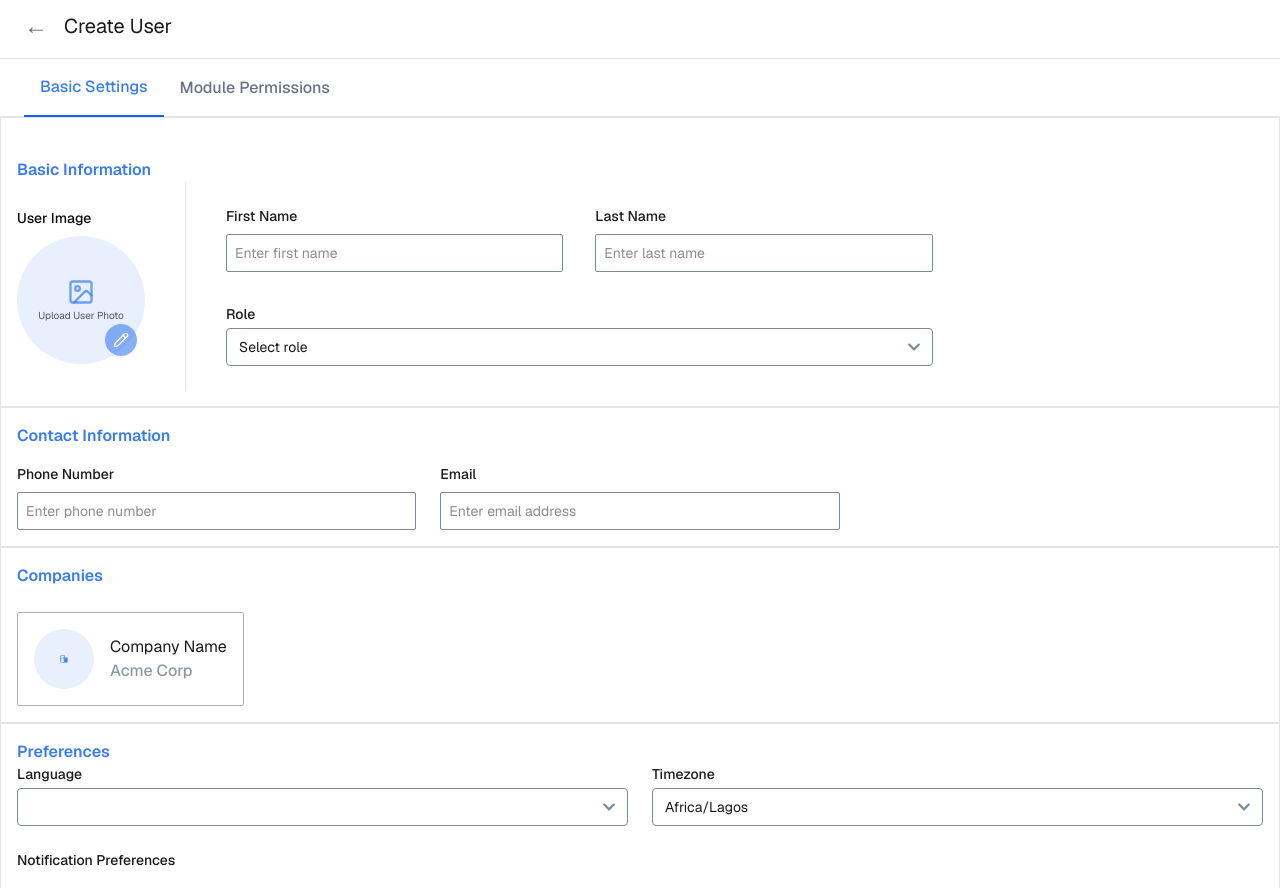
Test: NewUser Page Error Handling & StatusModal › displays actual error message in StatusModal when backend returns { error: [{ email: 'This email already exists' }] }
The width and height of the screenshot is (1280, 888).
Type "John" into the field with placeholder "Enter first name". click: (395, 253)
box: [226, 234, 563, 272]
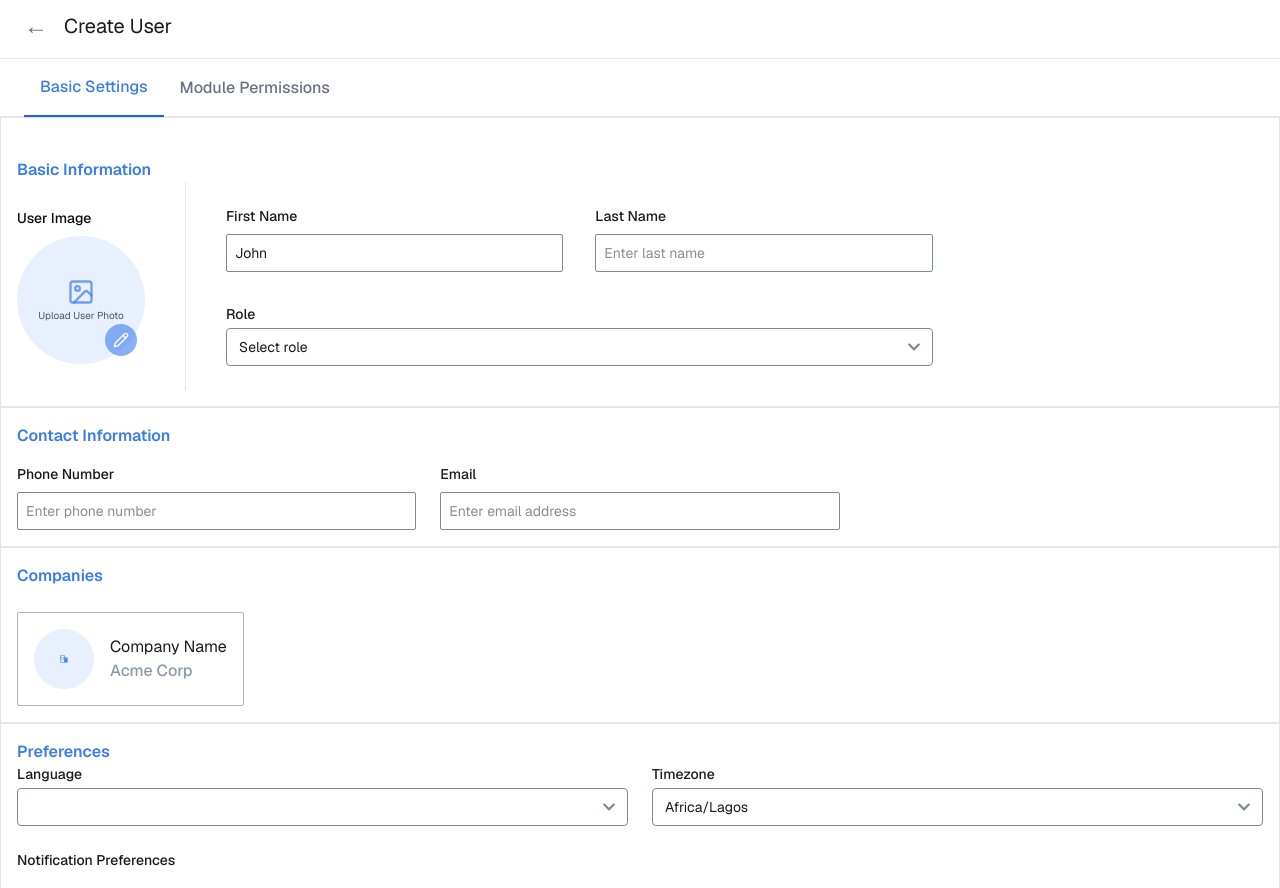
Type "Doe" into the field with placeholder "Enter last name". click: (764, 253)
box: [595, 234, 933, 272]
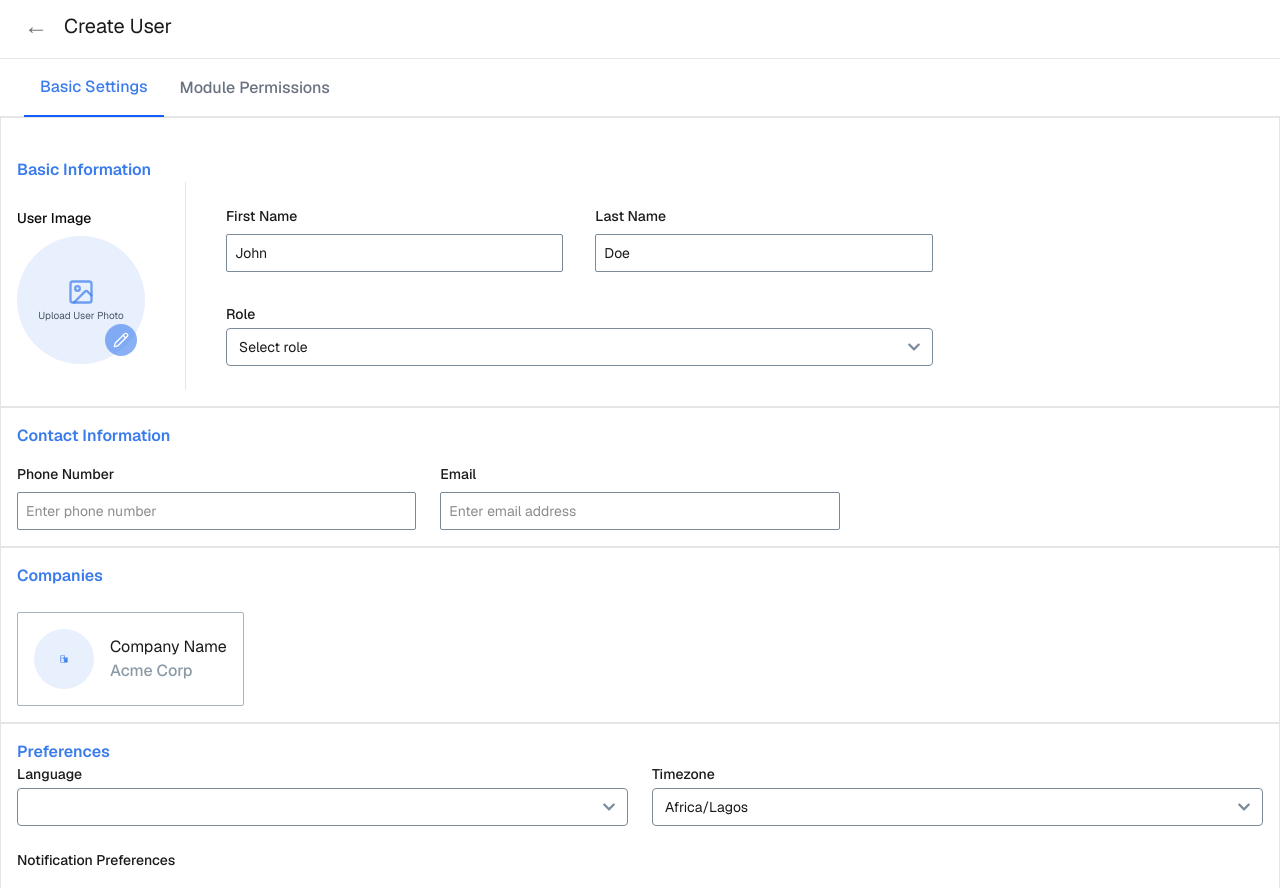
Type "existing@example.com" into the field with placeholder "Enter email address". click: (640, 511)
box: [440, 492, 840, 530]
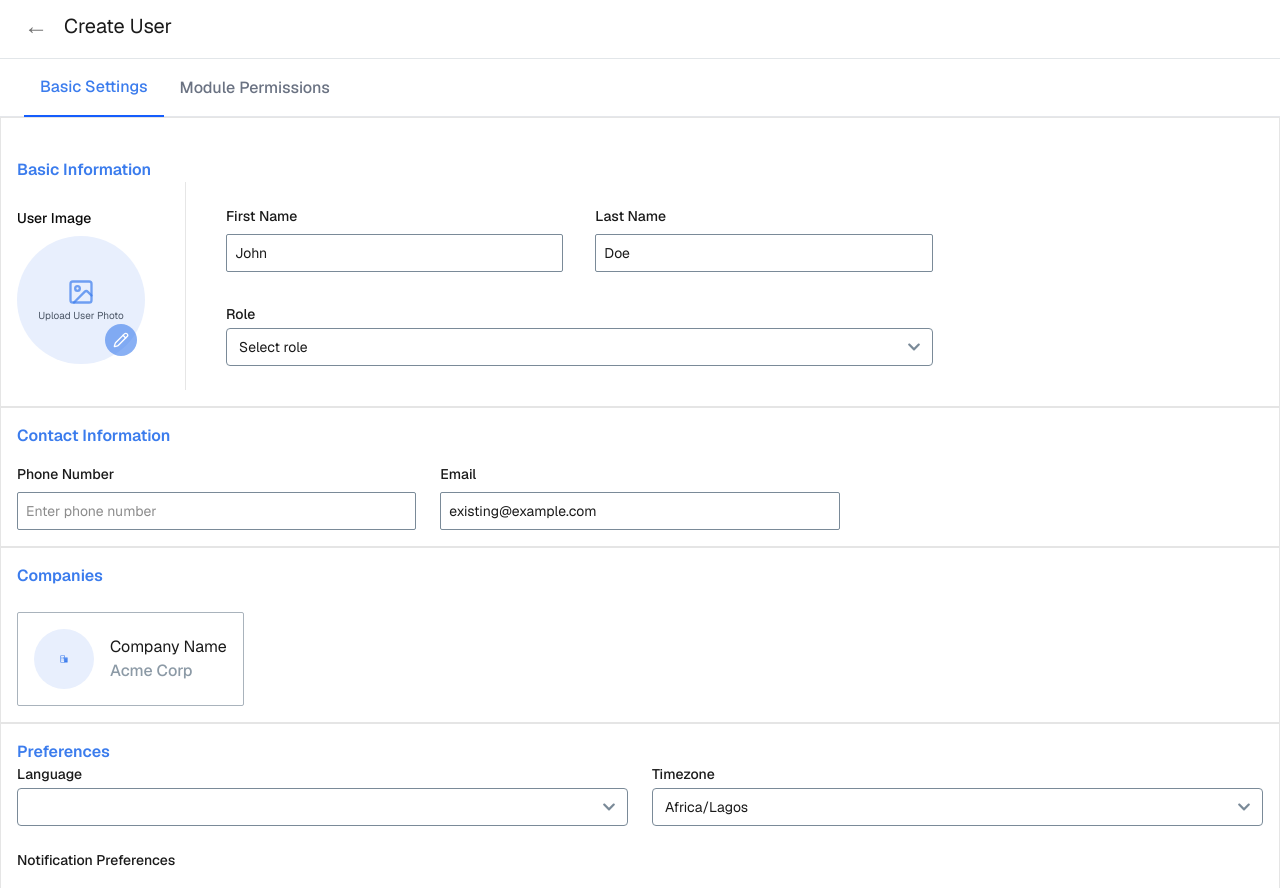
Type "08012345678" into the field with placeholder "Enter phone number". click: (217, 511)
box: [17, 492, 416, 530]
(page scrolled)
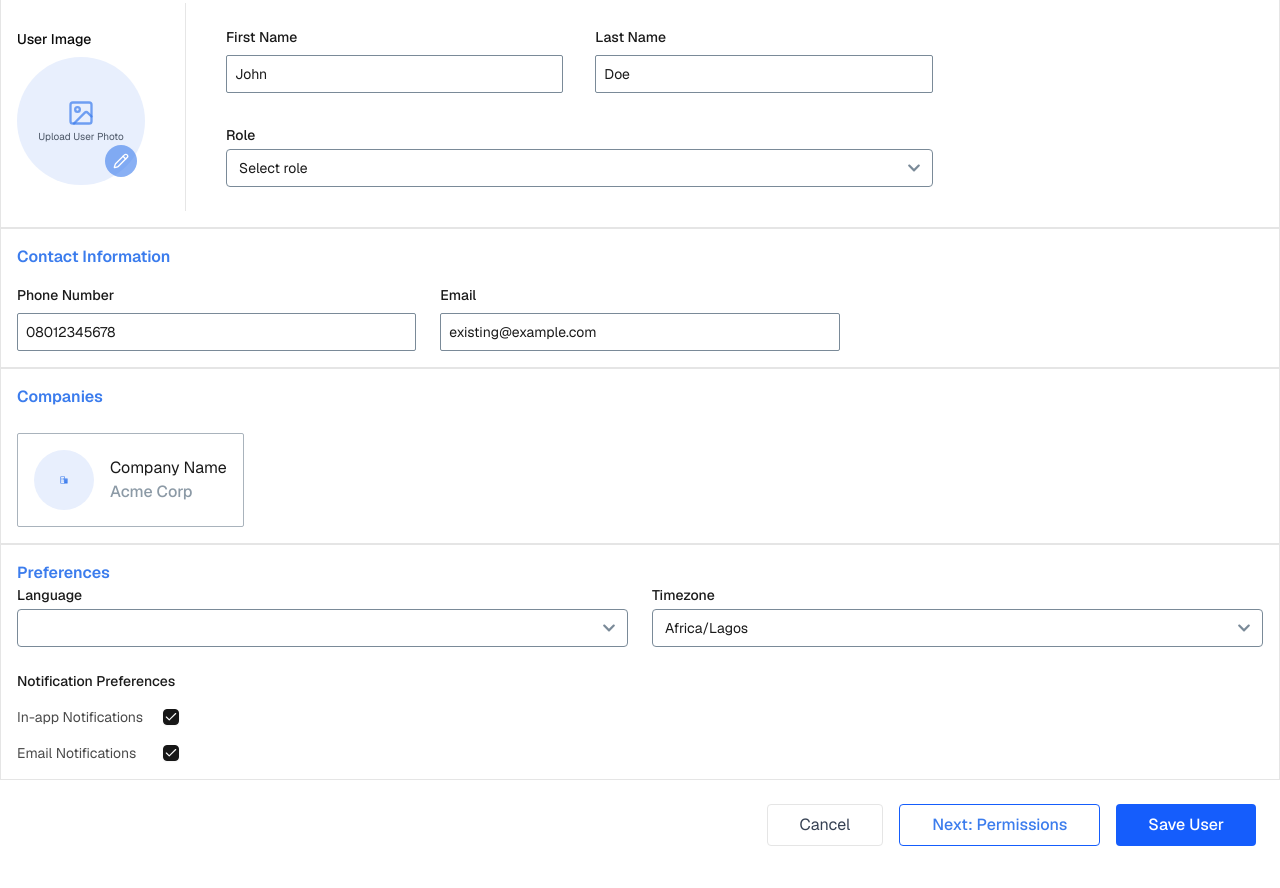
Click the button "Save User". click: (1186, 825)
box: [1116, 804, 1256, 846]
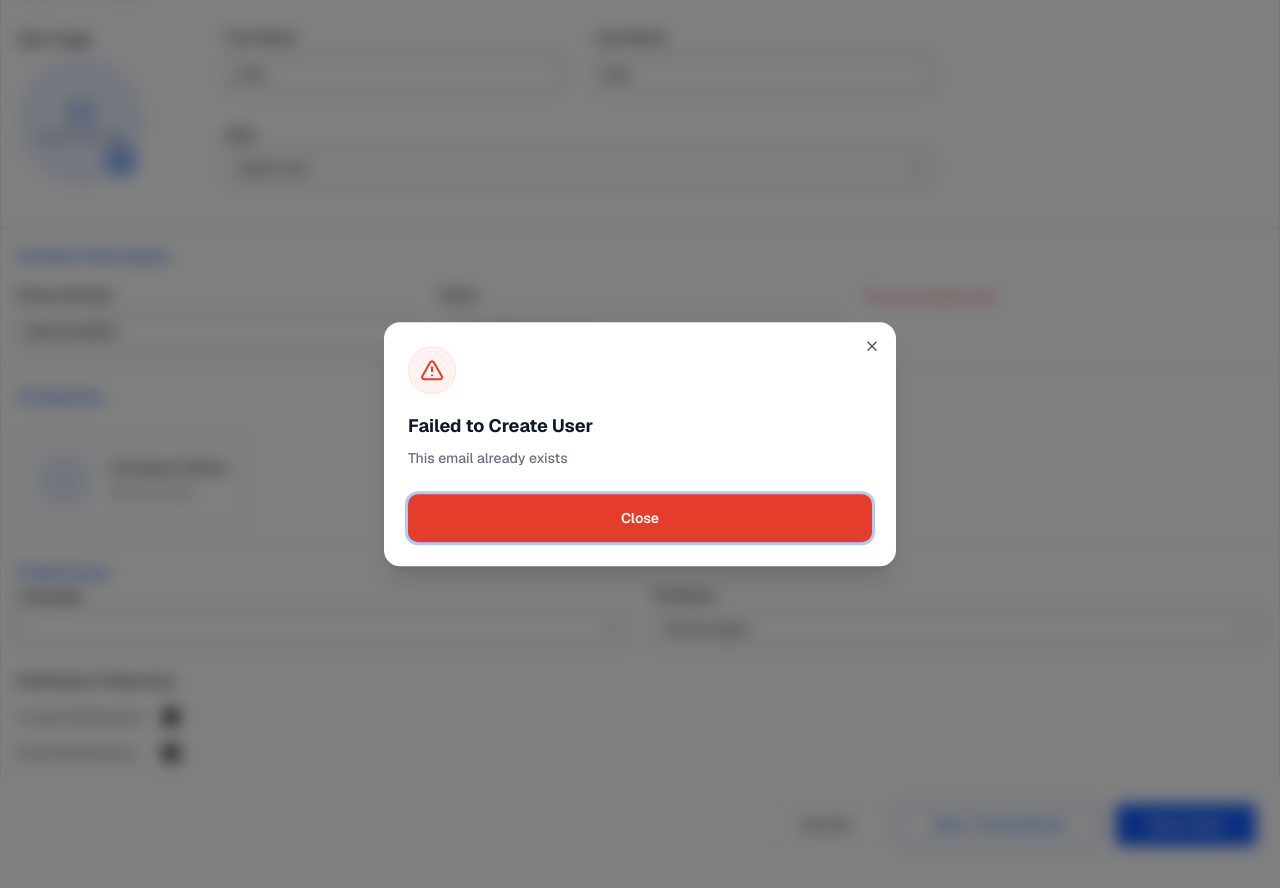
Check: the heading "Failed to Create User" is shown, box [408, 414, 593, 439]
